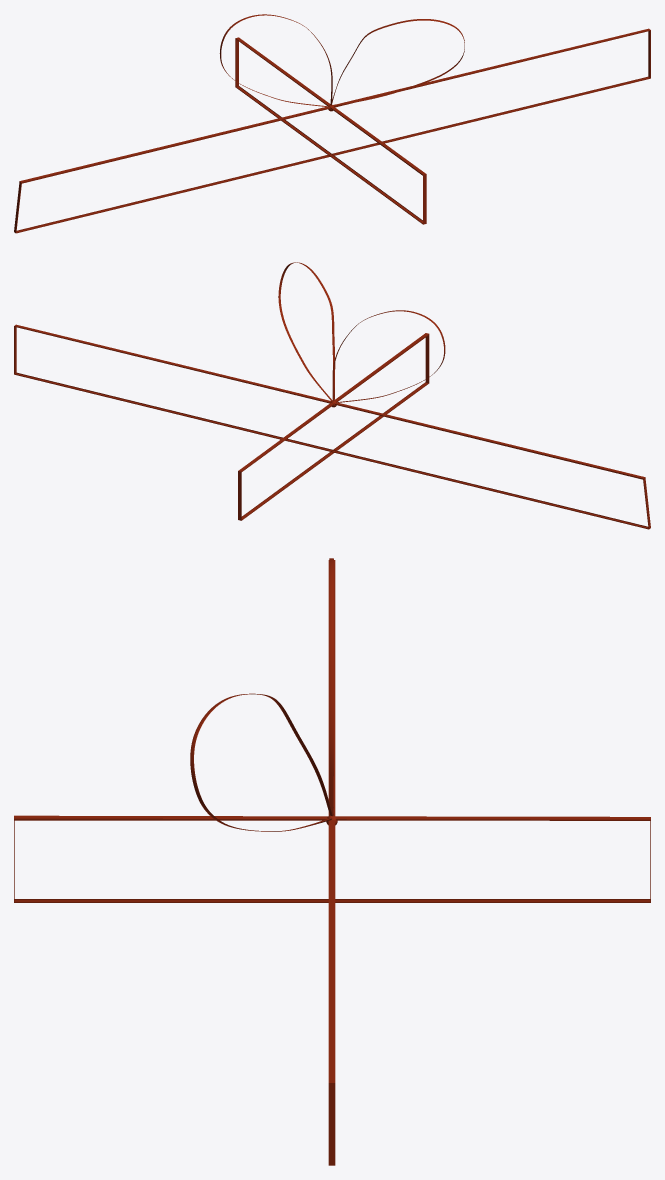
The model's file is LetterRibbon.fbx.
The picture shows the model from 3 angles, top to bottom: view 1: azimuth 30°, elevation 25°; view 2: azimuth 150°, elevation 25°; view 3: azimuth 270°, elevation 25°; orthographic projection. The views are drawn at different scales.
Visible parts, largest first — view 1: Plane.013, Plane.014, Plane.016, Plane.015; view 2: Plane.013, Plane.014, Plane.016, Plane.015; view 3: Plane.014, Plane.013, Plane.016, Plane.015.
Part boxes in pixels (x1=…): Plane.013: x1=14, y1=28, x2=650, y2=233; Plane.014: x1=235, y1=37, x2=426, y2=224; Plane.016: x1=331, y1=19, x2=464, y2=106; Plane.015: x1=219, y1=14, x2=332, y2=107; Plane.013: x1=14, y1=324, x2=650, y2=529; Plane.014: x1=238, y1=333, x2=429, y2=520; Plane.016: x1=278, y1=262, x2=335, y2=401; Plane.015: x1=332, y1=310, x2=445, y2=403; Plane.014: x1=14, y1=815, x2=650, y2=902; Plane.013: x1=328, y1=560, x2=335, y2=1165; Plane.016: x1=190, y1=693, x2=332, y2=831; Plane.015: x1=329, y1=558, x2=333, y2=815.
Bounding box in the file's own units: 204 × 48.85 × 105.
